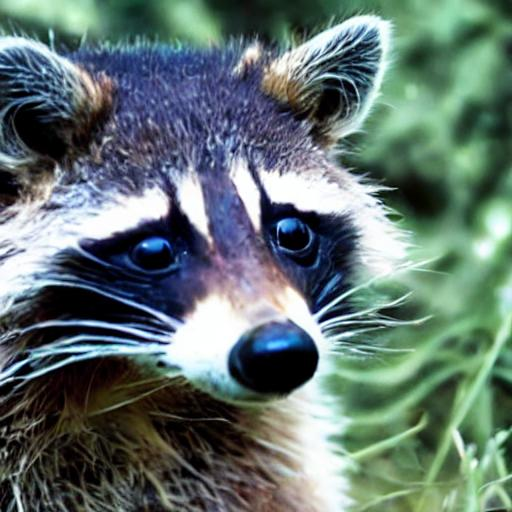raccoon: (0, 0, 445, 512)
